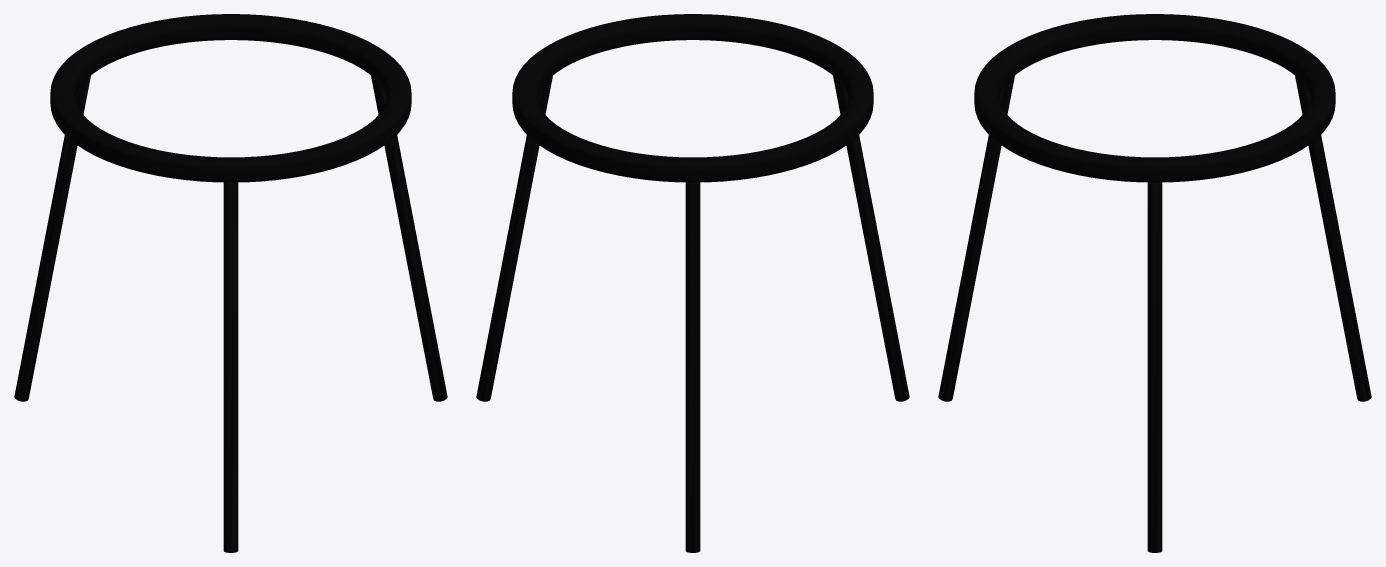
File: tripod_stand.glb
3 renders of one model, left to right at view 1: azimuth 30°, elevation 25°; view 2: azimuth 150°, elevation 25°; view 3: azimuth 270°, elevation 25°, orthographic.
Visible parts, largest first — view 1: Tripod_Cylinder.001, Cylinder.002_Cylinder.003, Cylinder.003_Cylinder.004, Cylinder.001_Cylinder.002; view 2: Tripod_Cylinder.001, Cylinder.003_Cylinder.004, Cylinder.002_Cylinder.003, Cylinder.001_Cylinder.002; view 3: Tripod_Cylinder.001, Cylinder.001_Cylinder.002, Cylinder.003_Cylinder.004, Cylinder.002_Cylinder.003.
Boxes of the visible parts, x1,y1,x2,y2 form: Tripod_Cylinder.001: (50, 14, 411, 182); Cylinder.002_Cylinder.003: (223, 182, 238, 552); Cylinder.003_Cylinder.004: (14, 76, 90, 401); Cylinder.001_Cylinder.002: (371, 76, 447, 401); Tripod_Cylinder.001: (512, 14, 873, 182); Cylinder.003_Cylinder.004: (685, 182, 700, 552); Cylinder.002_Cylinder.003: (833, 76, 909, 401); Cylinder.001_Cylinder.002: (476, 76, 552, 401); Tripod_Cylinder.001: (974, 14, 1335, 182); Cylinder.001_Cylinder.002: (1147, 182, 1162, 552); Cylinder.003_Cylinder.004: (1295, 76, 1371, 401); Cylinder.002_Cylinder.003: (938, 76, 1014, 401).
Size of the model in its own units: 3.08 by 2.86 by 3.1.
1 material, 1 textured.
